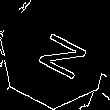N_NW: (24, 23, 86, 82)
